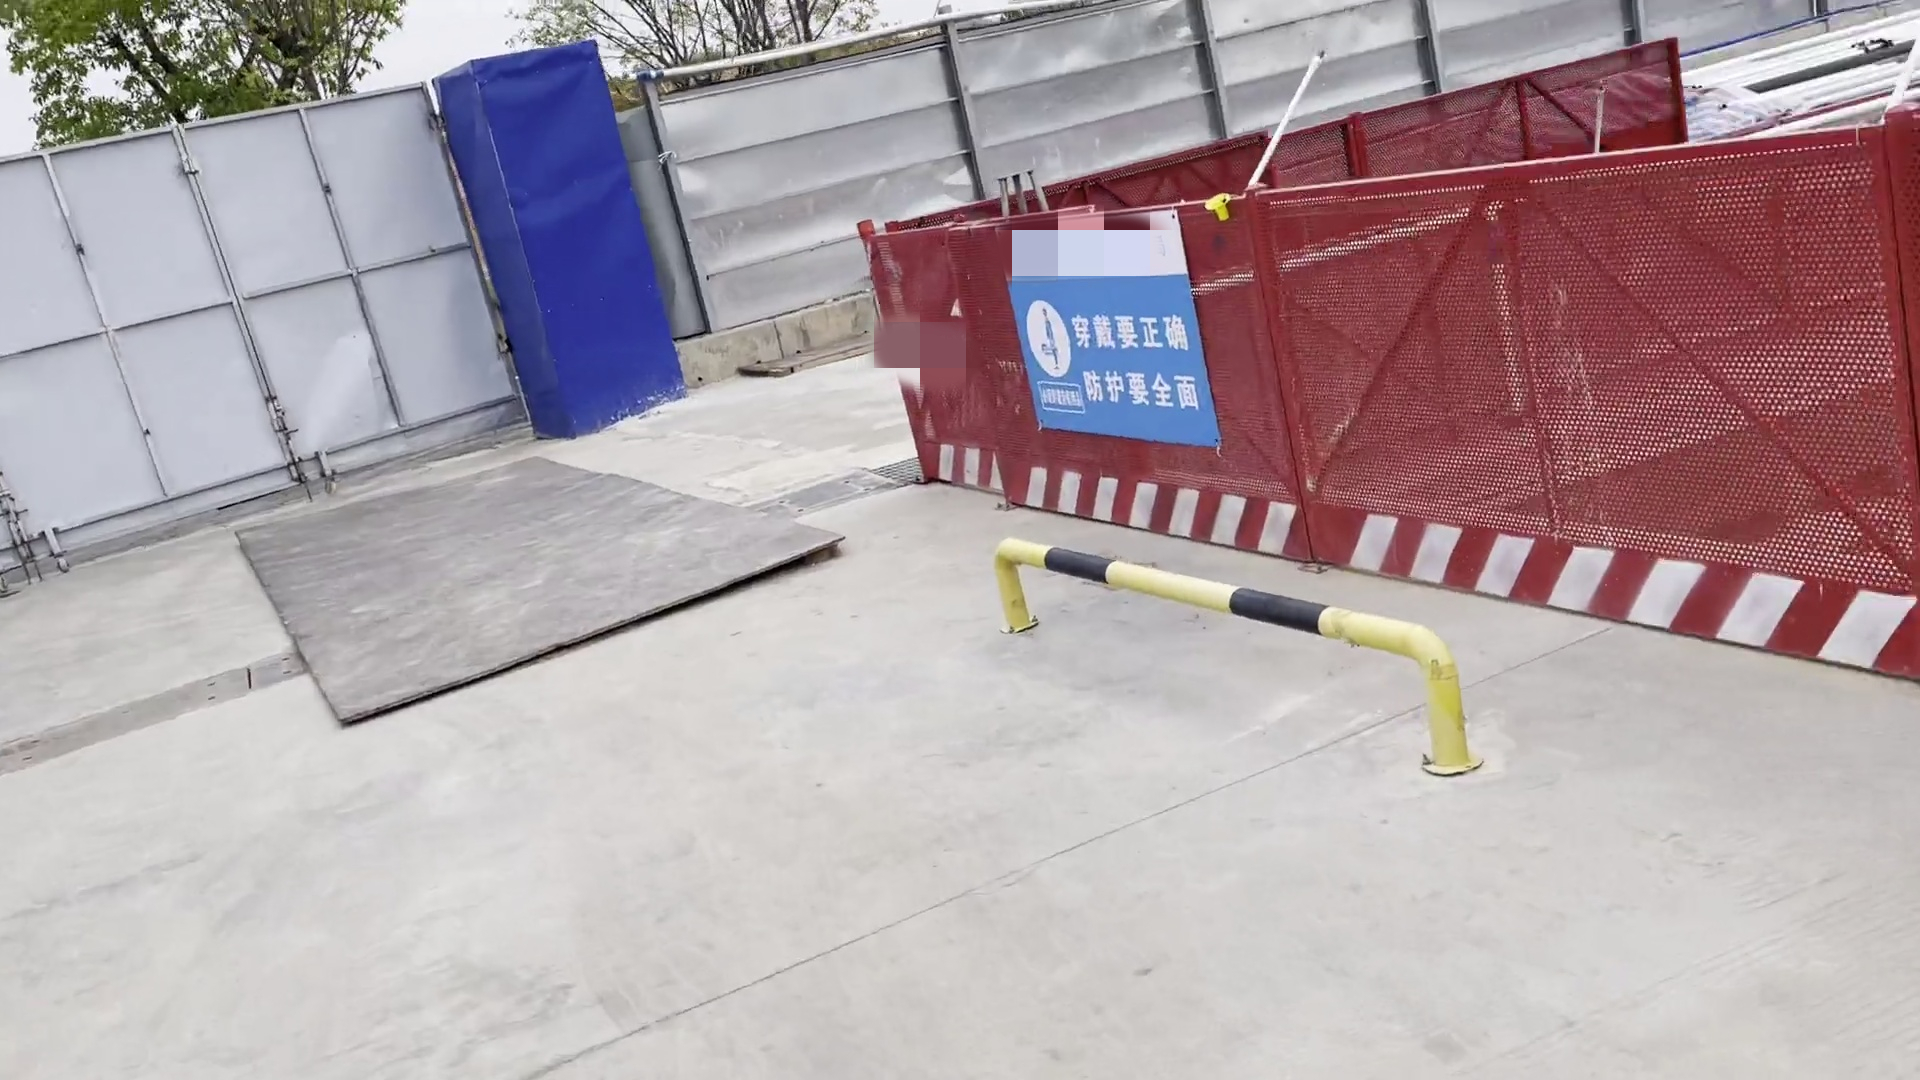fence: (837, 104, 1920, 707), (1349, 37, 1708, 177)
slogan: (1000, 272, 1240, 465)
